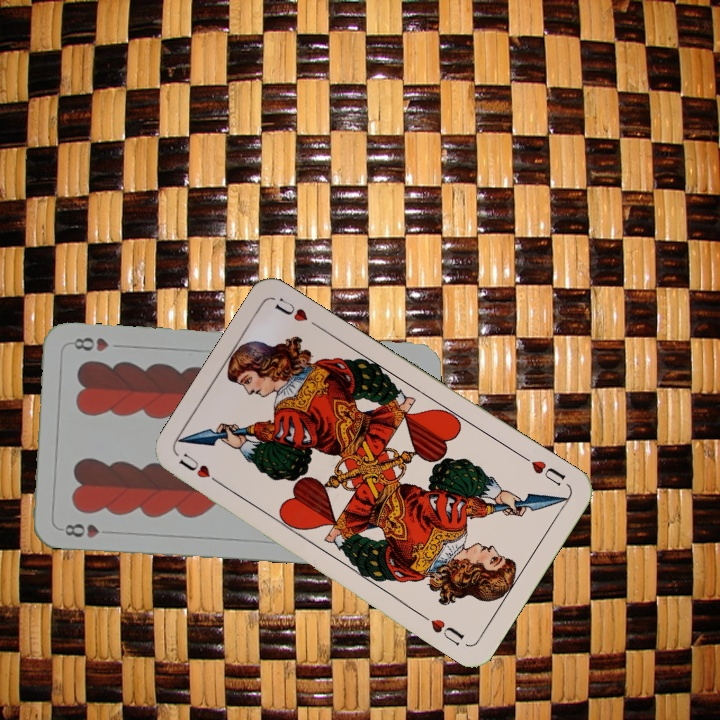H8: (60, 519, 115, 540)
HU: (175, 448, 227, 490), (518, 451, 568, 489)
